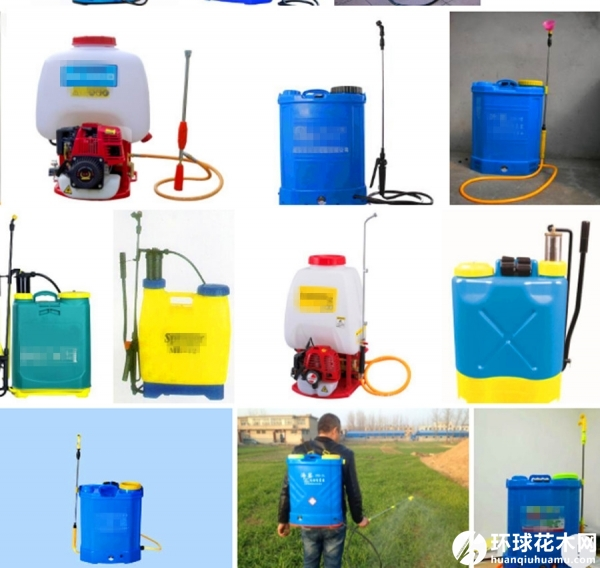berrl: (33, 31, 155, 202), (448, 255, 569, 405), (281, 251, 375, 399), (272, 82, 376, 211), (131, 278, 233, 402), (7, 286, 96, 397), (500, 473, 586, 568), (470, 79, 549, 177), (74, 481, 149, 565), (282, 452, 349, 536)
